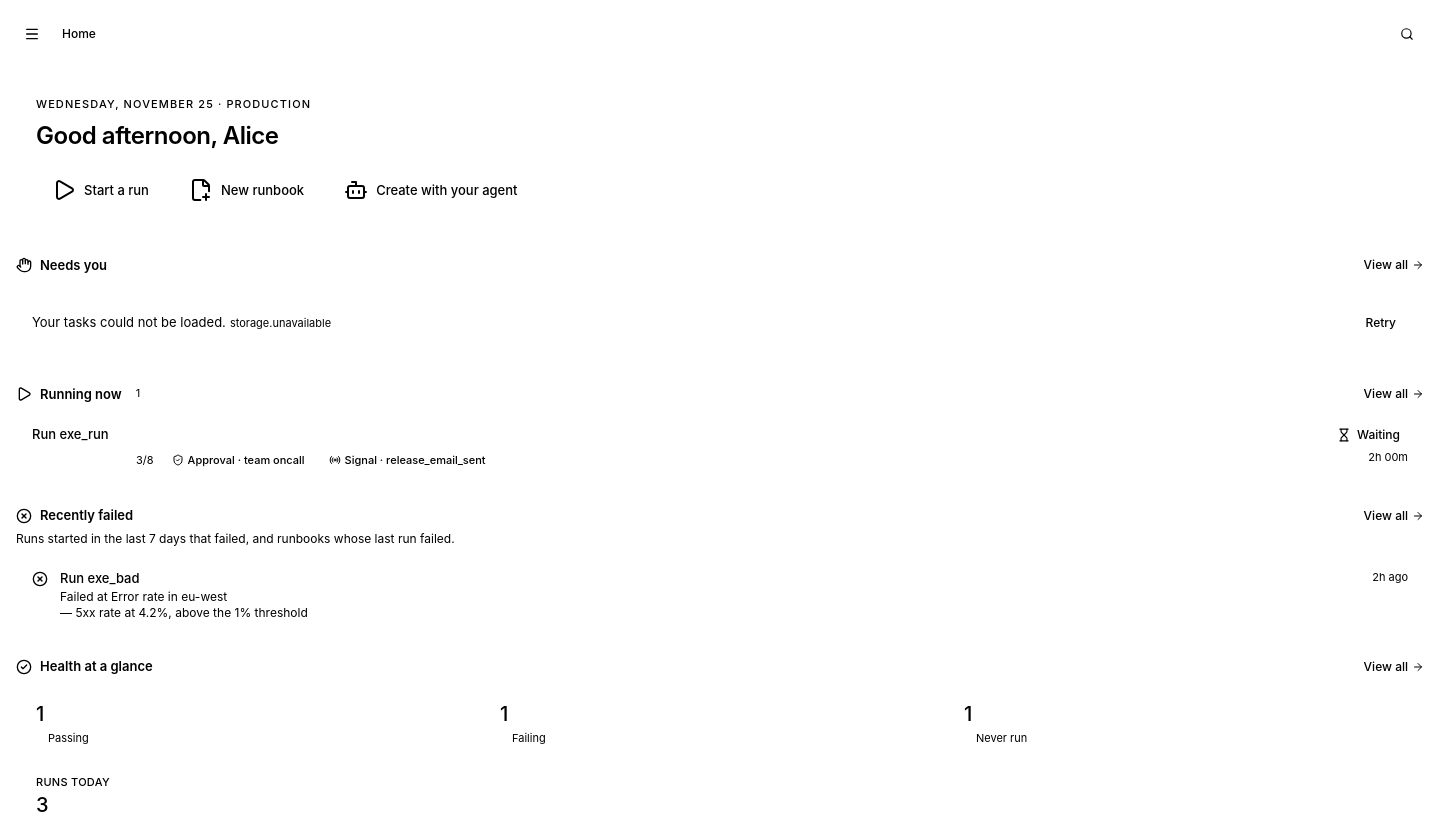
Test case: Home › keeps the page when one section fails, and retries that section
Expected: the message shows "Your tasks could not be loaded", [32,313,331,332]
Expected: the text "Approval · team oncall" is shown, [188,452,305,468]
Click the button "Retry" at (1381, 323), box [1354,301,1408,345]
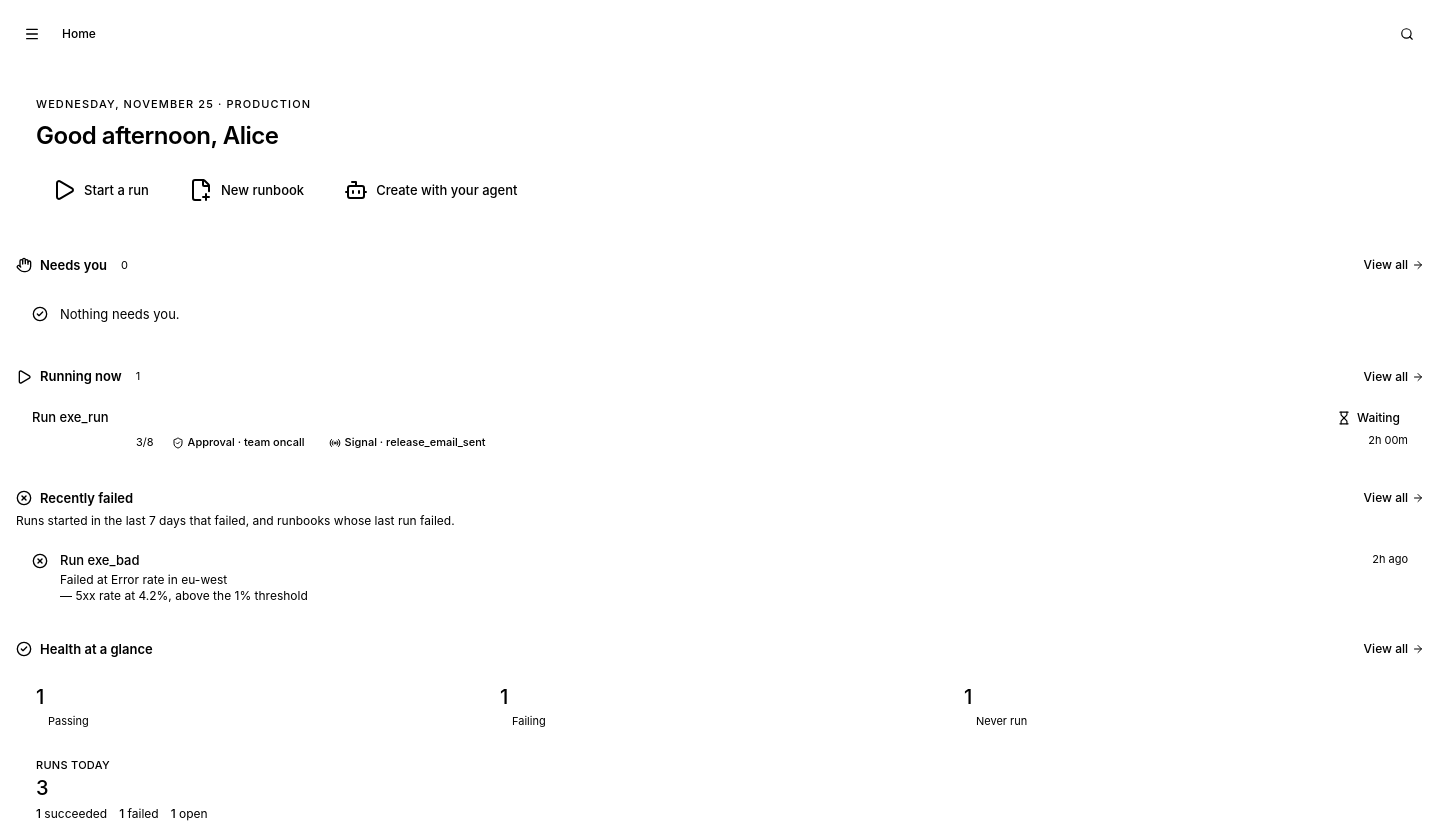
Now the text "Nothing needs you." is shown, box [60,305,180,323]
